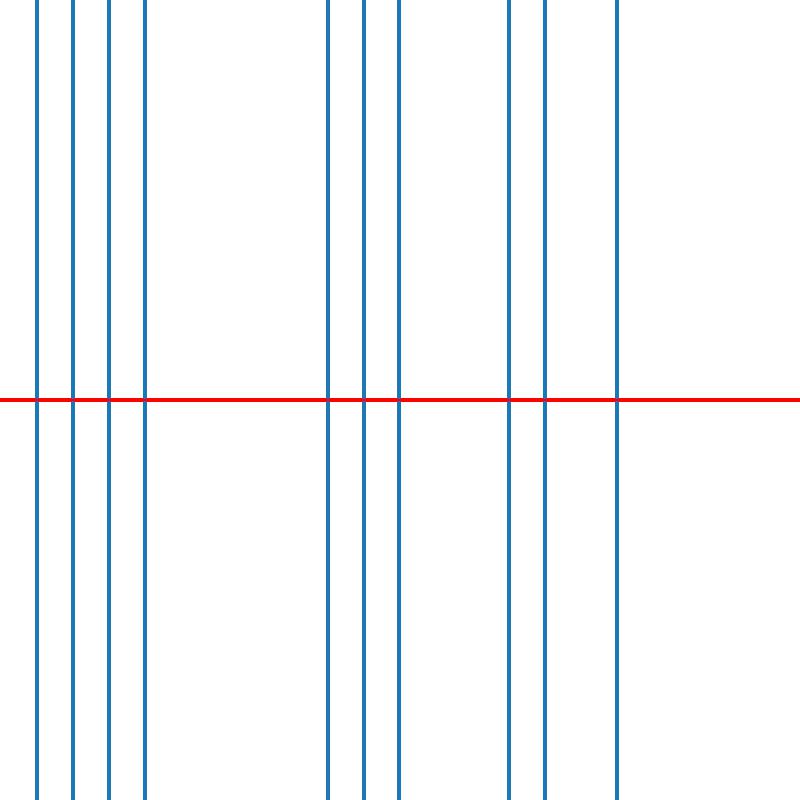root: (32, 396, 40, 404), (541, 396, 549, 404), (141, 396, 149, 404), (505, 396, 512, 404), (105, 396, 112, 404), (614, 396, 621, 404), (69, 396, 76, 404), (360, 396, 367, 404), (396, 396, 403, 404), (323, 396, 330, 404)
